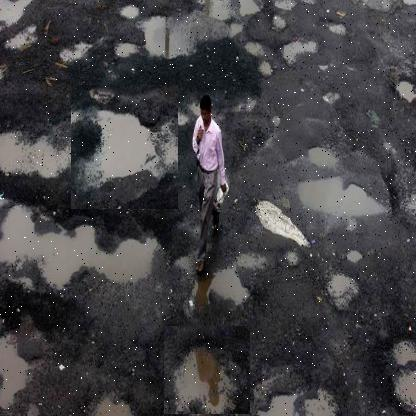pothole_water: (70, 85, 178, 210), (163, 326, 250, 415)
pothole_water_m: (6, 188, 170, 307)
